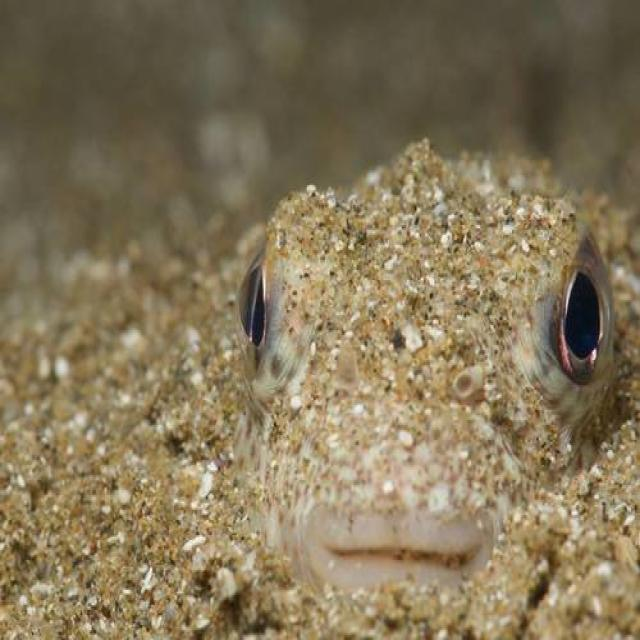Balik: (236, 142, 613, 588)
